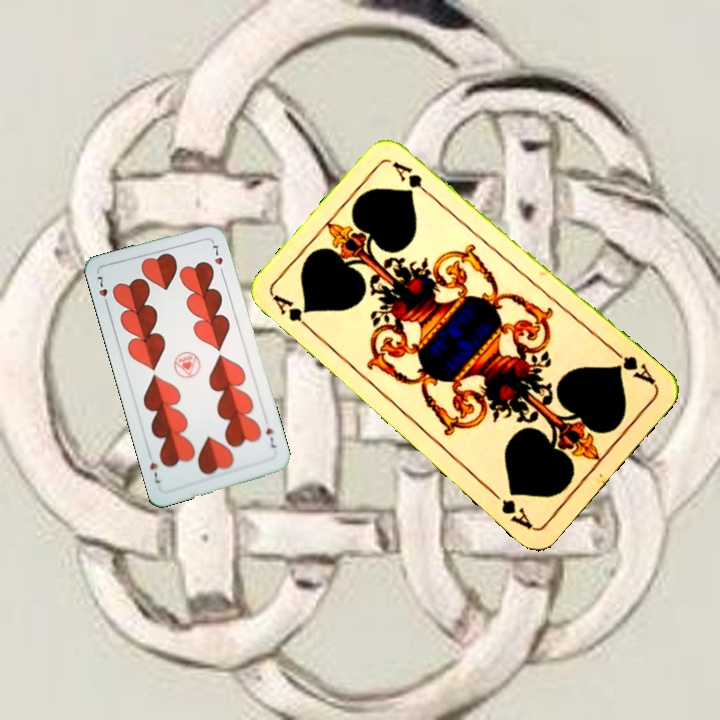GA: (269, 291, 318, 337), (608, 345, 658, 388)
H7: (92, 272, 111, 310), (262, 424, 278, 451)
